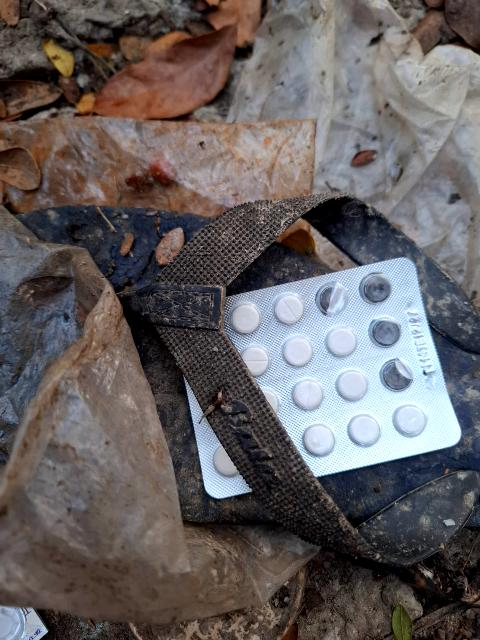medicine: (221, 288, 458, 468)
